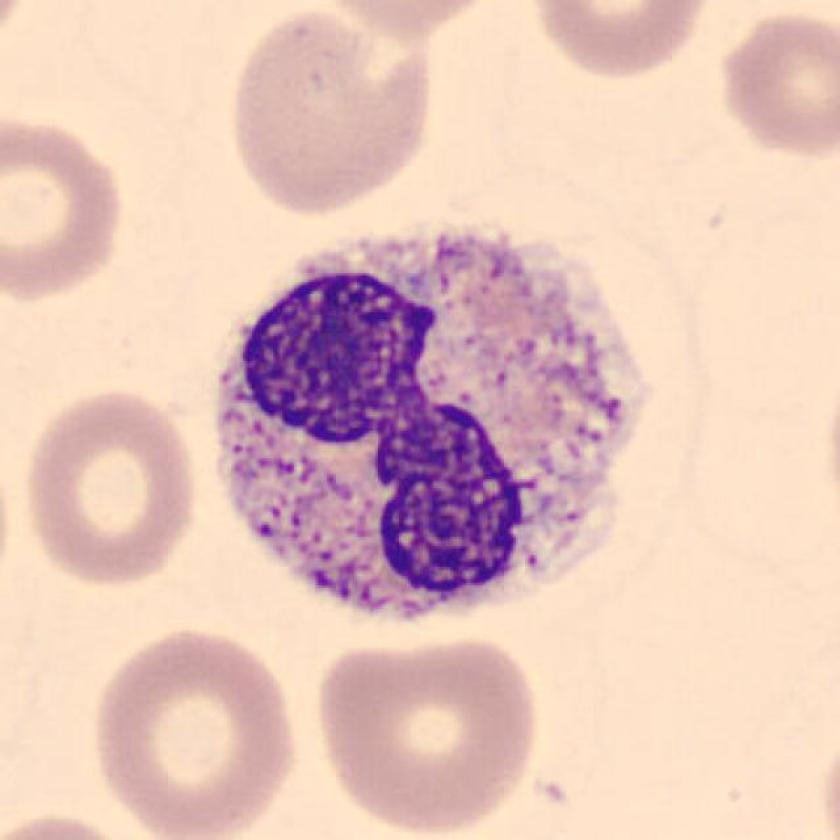neutrophil: (213, 227, 642, 618)
